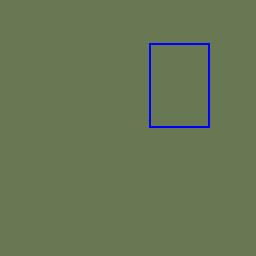Person: (149, 42, 210, 127)
